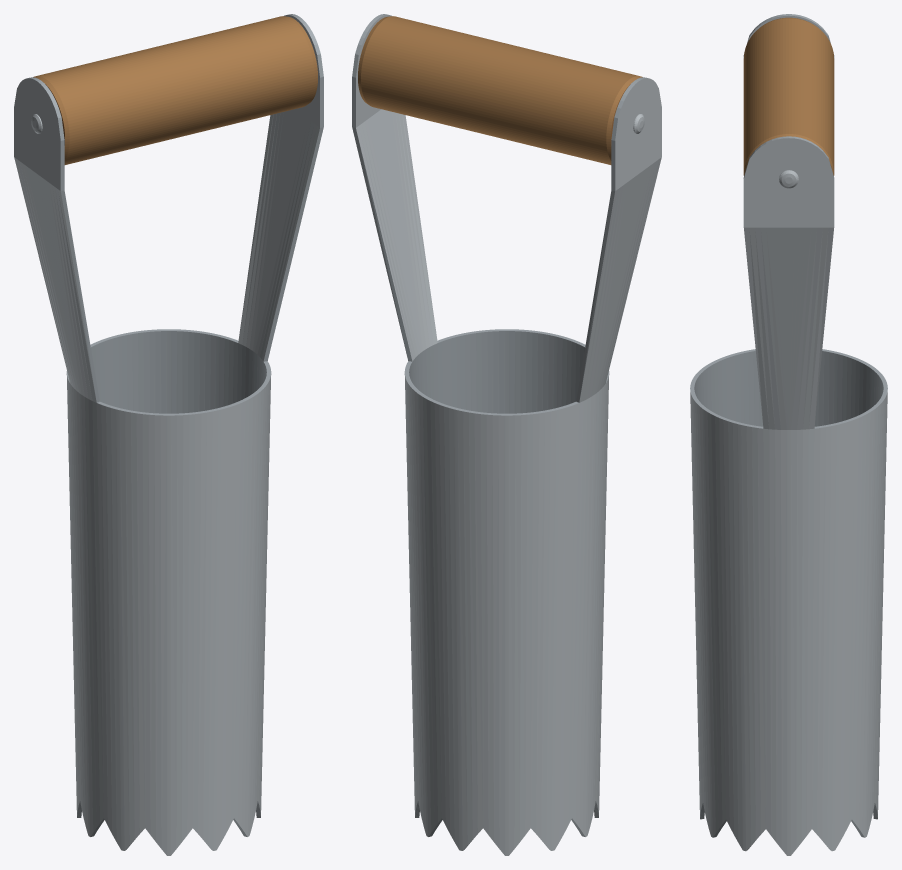
The picture shows the model from 3 angles, left to right: view 1: azimuth 30°, elevation 25°; view 2: azimuth 150°, elevation 25°; view 3: azimuth 270°, elevation 25°; orthographic projection. The views are drawn at different scales.
Parts seen in each view (by area): view 1: Continuous_hollow_serrated_cutter_and_two_flat_uprights, Transverse_hardwood_grip_seated_between_flat_arms; view 2: Continuous_hollow_serrated_cutter_and_two_flat_uprights, Transverse_hardwood_grip_seated_between_flat_arms; view 3: Continuous_hollow_serrated_cutter_and_two_flat_uprights, Transverse_hardwood_grip_seated_between_flat_arms.
Part boxes in pixels (x1=…): Continuous_hollow_serrated_cutter_and_two_flat_uprights: x1=14, y1=14, x2=323, y2=855; Transverse_hardwood_grip_seated_between_flat_arms: x1=33, y1=16, x2=317, y2=164; Continuous_hollow_serrated_cutter_and_two_flat_uprights: x1=352, y1=14, x2=661, y2=855; Transverse_hardwood_grip_seated_between_flat_arms: x1=358, y1=16, x2=642, y2=164; Continuous_hollow_serrated_cutter_and_two_flat_uprights: x1=690, y1=14, x2=887, y2=855; Transverse_hardwood_grip_seated_between_flat_arms: x1=743, y1=17, x2=834, y2=175.
Bounding box in the file's own units: 0.1064 × 0.29 × 0.07.
